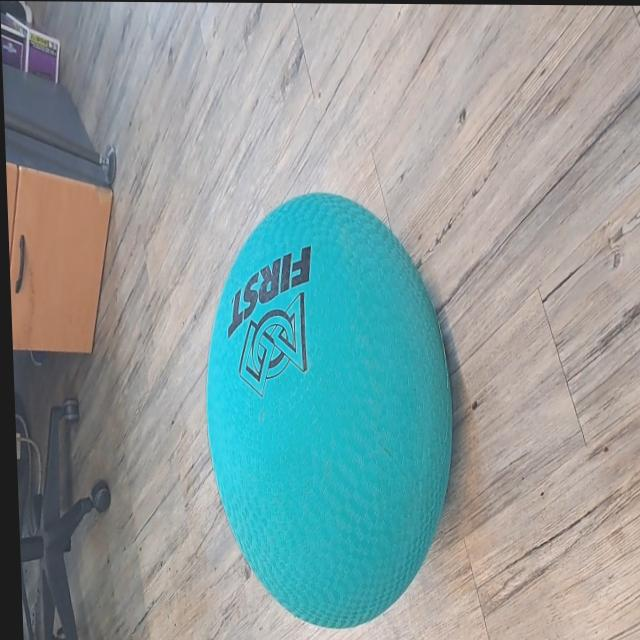ALGAE: (196, 189, 462, 631)
